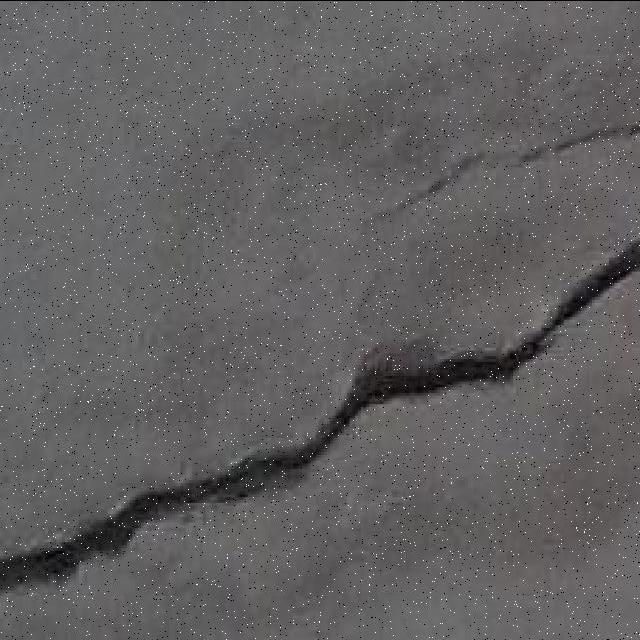Crack: (1, 236, 638, 595)
